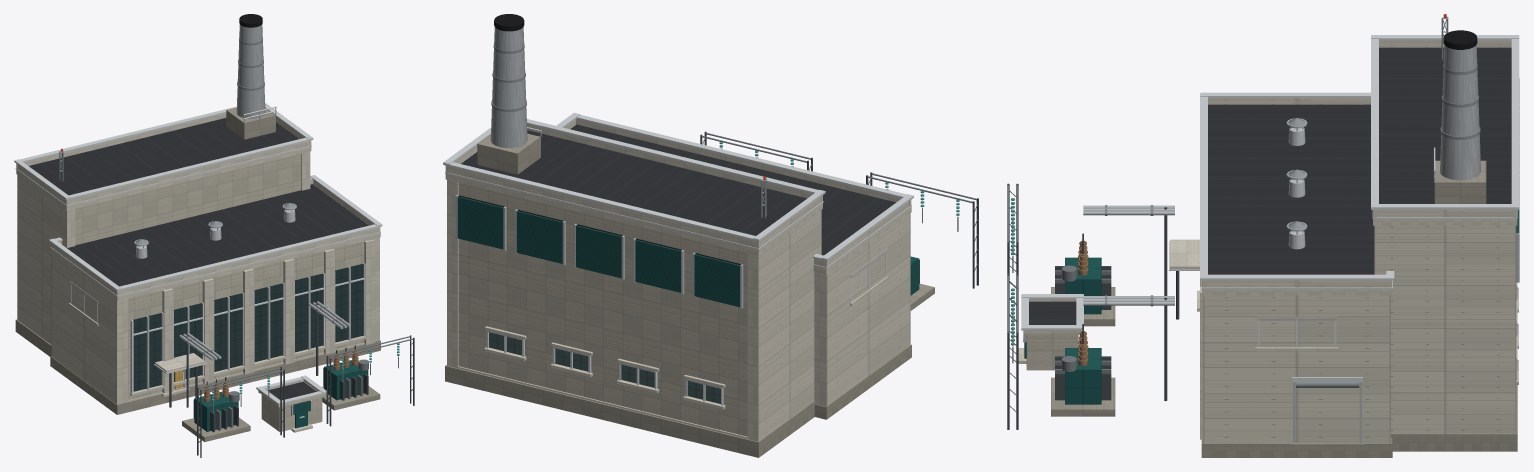
File: fun-10-built.glb
3 views of the same model, side by side, from view 1: azimuth 30°, elevation 25°; view 2: azimuth 150°, elevation 25°; view 3: azimuth 270°, elevation 25° (orthographic). The views are drawn at different scales.
Bounding box in the file's own units: 28.83 × 28.4 × 33.56.
Materials: 36 (26 with a texture image).
